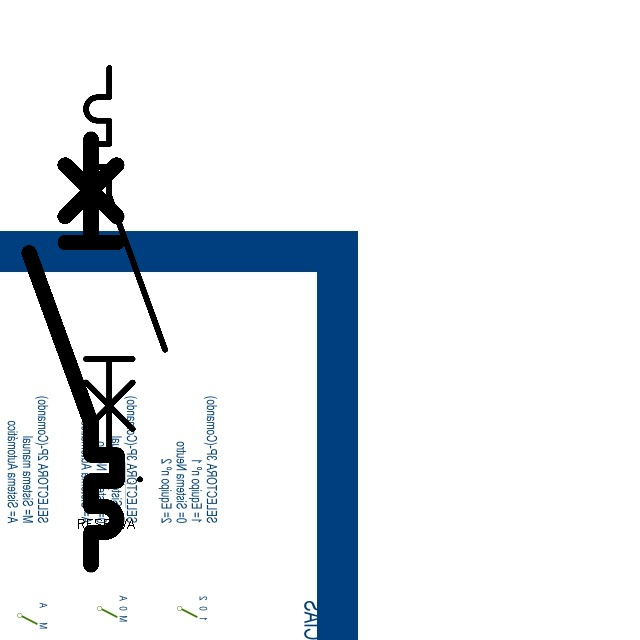interruptor_termomagnetico: (18, 128, 128, 576), (76, 58, 175, 462)
